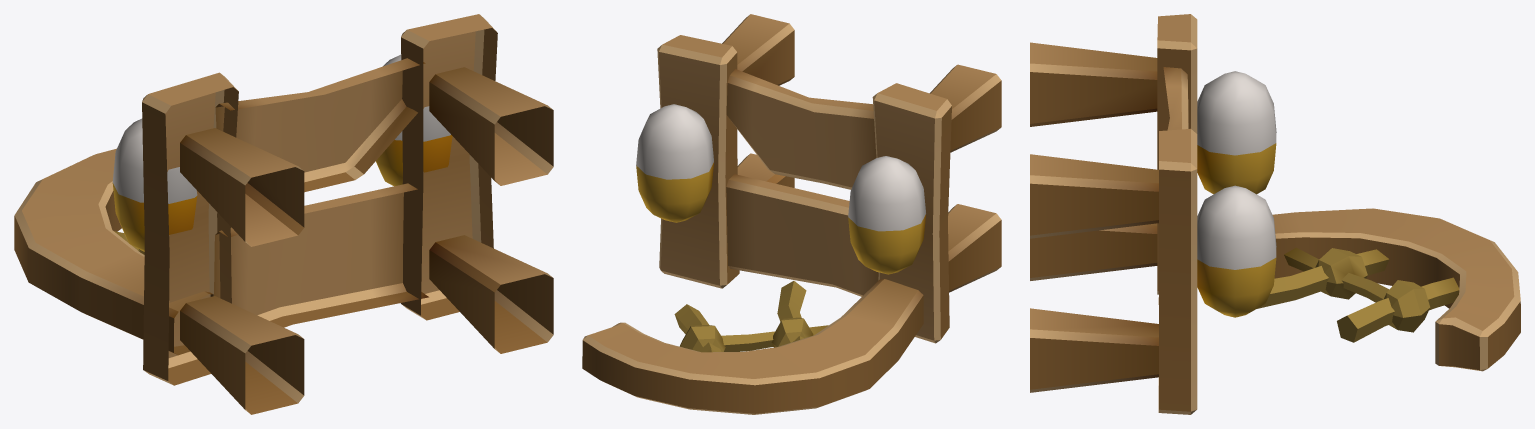
File: CrabChair.fbx
3 renders of one model, left to right at view 1: azimuth 30°, elevation 25°; view 2: azimuth 150°, elevation 25°; view 3: azimuth 270°, elevation 25°, orthographic. The views are drawn at different scales.
Visible parts, largest first — view 1: CrabChair; view 2: CrabChair; view 3: CrabChair.
Part boxes in pixels (bbox=[...]): CrabChair: bbox=[14, 14, 553, 414]; CrabChair: bbox=[582, 14, 1001, 414]; CrabChair: bbox=[1030, 14, 1520, 414].
Size of the model in its own units: 118 by 90.35 by 154.
